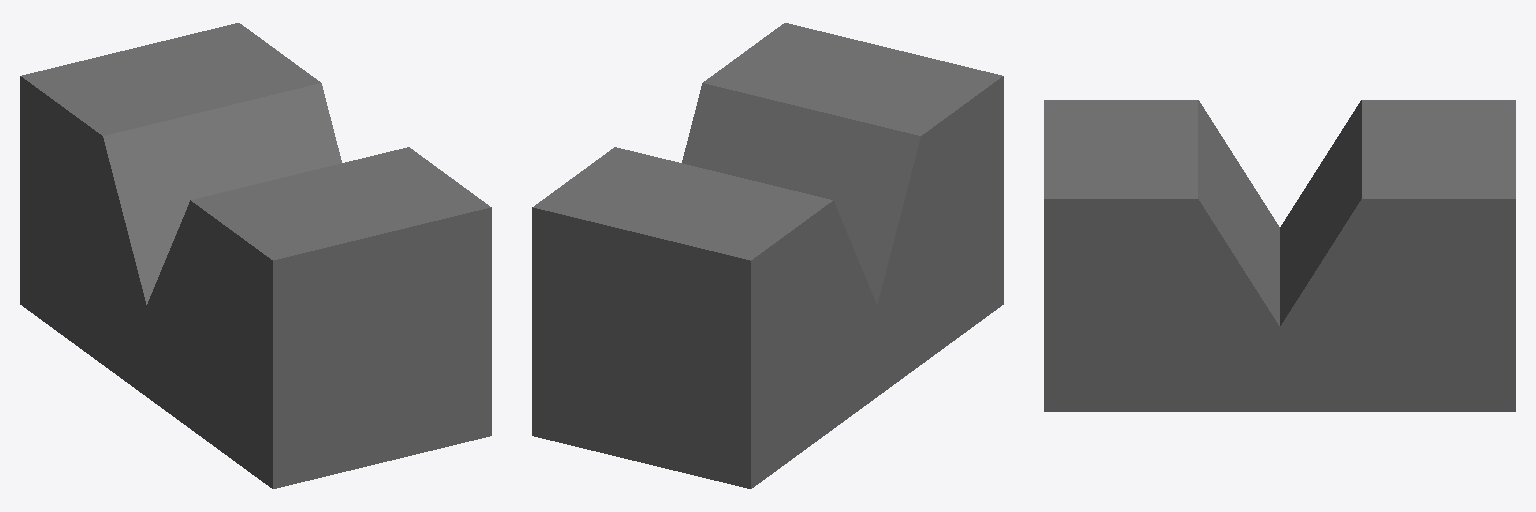
The robot description file, URDF, robot "small_triangle_bottom":
<?xml version="1.0"?>
<robot name="small_triangle_bottom">
    <link name="small_triangle_bottom">
        <visual>
        <origin xyz="0 0 -0.77474049613800055614" rpy="0 -0 0" />
            <geometry>
            <mesh filename="separate_wall_shapes_small/wall_pieces/small_triangle_bottom.obj"/>
            </geometry>
            <material name="small_triangle_bottom_material">
            <color rgba="0.49803921568627451677 0.49803921568627451677 0.49803921568627451677 1.0"/>
            </material>
        </visual>
        <collision>
            <origin xyz="0 0 -0.77474049613800055614" rpy="0 -0 0" />
            <geometry>
            <mesh filename="separate_wall_shapes_small/wall_pieces/small_triangle_bottom.obj"/>
            </geometry>
        </collision>
        <inertial>
            <origin xyz="0 0 0" rpy="0 0 0"/>
            <mass value="100" />
            <inertia ixx="0" ixy="0"  ixz="0" iyy="0" iyz="0" izz="0" />
        </inertial>
    </link>


</robot>

--- What the picture shows (computed from the rendered views, not written in the file) ---
Views: 3 orthographic renders of the robot side by side, from view 1: azimuth 30°, elevation 25°; view 2: azimuth 150°, elevation 25°; view 3: azimuth 270°, elevation 25°.
Robot: small_triangle_bottom — 1 links, 0 joints (none); root link small_triangle_bottom; default pose: every joint at zero.
Links seen in each view (by area): view 1: small_triangle_bottom; view 2: small_triangle_bottom; view 3: small_triangle_bottom.
Boxes of the visible links, x1,y1,x2,y2 form: small_triangle_bottom: [20, 23, 491, 488]; small_triangle_bottom: [532, 23, 1003, 488]; small_triangle_bottom: [1044, 100, 1515, 411].
Bounding box of the posed robot: 0.25 × 0.5 × 0.25 m (x, y, z).
Meshes: 1 distinct files referenced, 1 mesh visuals loaded (1 OBJ).